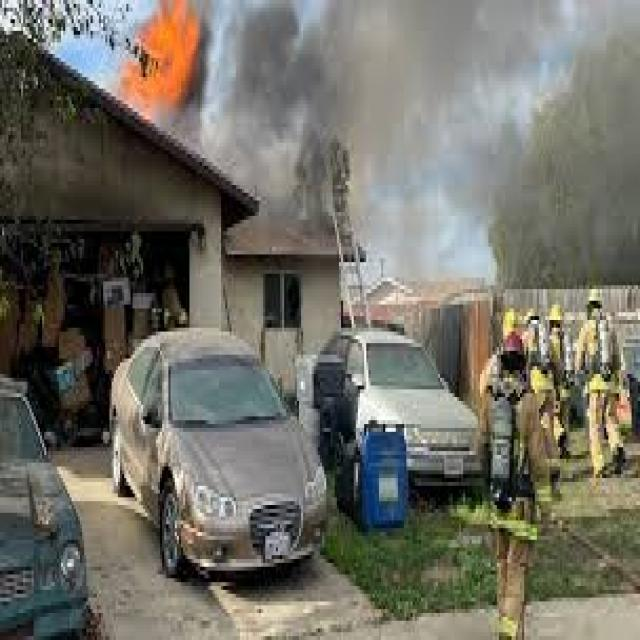fire: (116, 4, 206, 150)
smoke: (207, 4, 548, 231)
